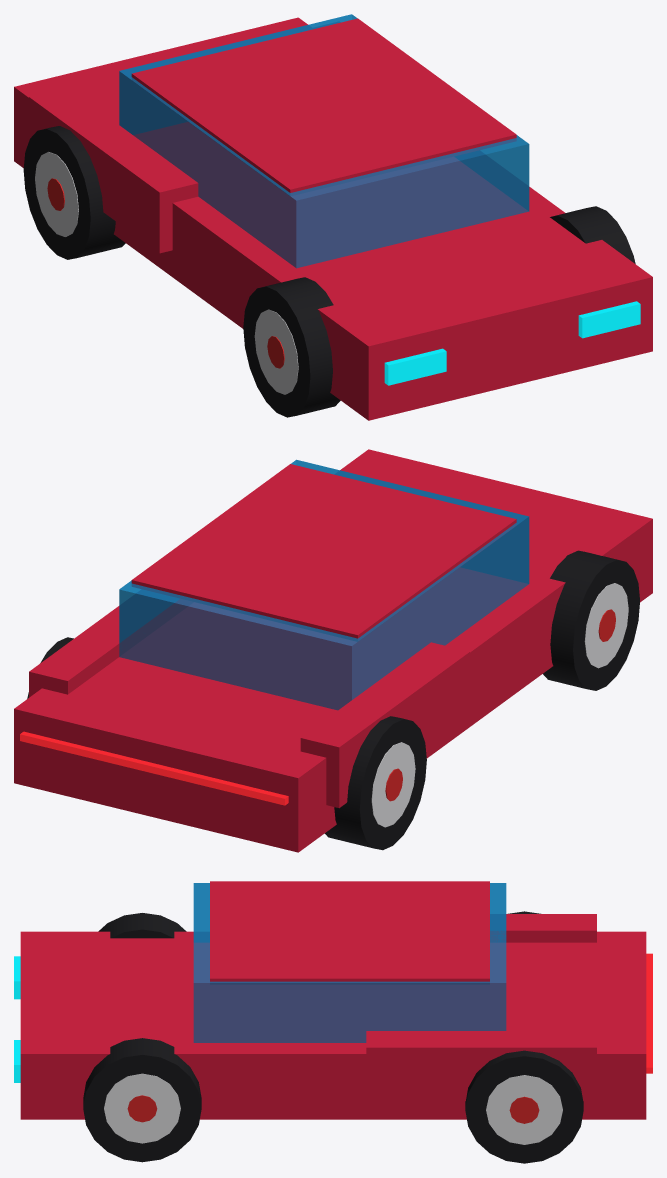
The model's file is porsche_taycan.glb.
3 views of the same model, one above another, from view 1: azimuth 30°, elevation 25°; view 2: azimuth 150°, elevation 25°; view 3: azimuth 270°, elevation 25° (orthographic). The views are drawn at different scales.
Size of the model in its own units: 0.5404 by 0.2784 by 1.
